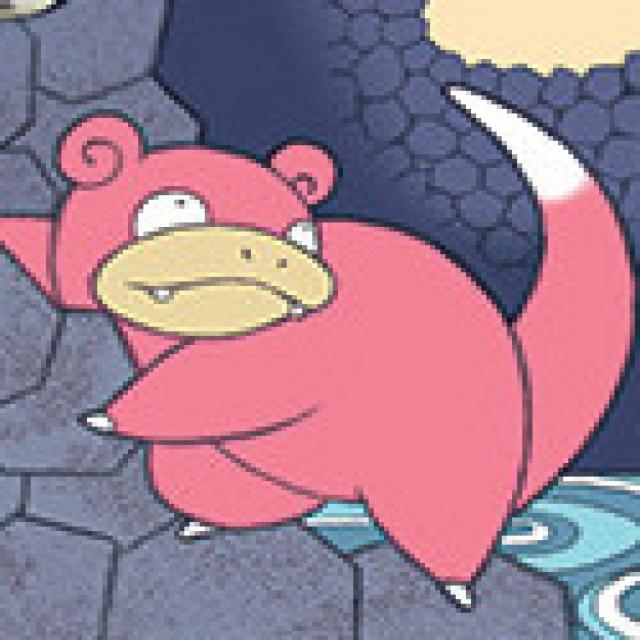Slowpoke: (48, 113, 579, 541)
